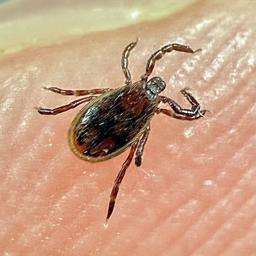Ixodes scapularis: (39, 41, 206, 229)
